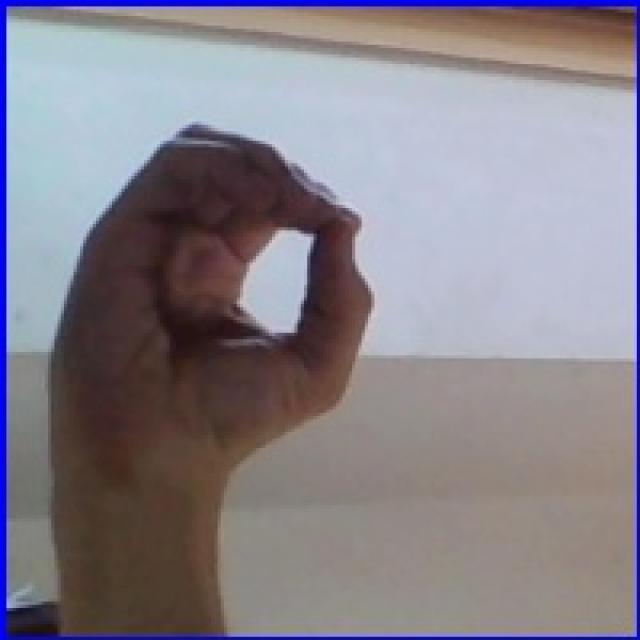Letra-O: (34, 86, 387, 492)
